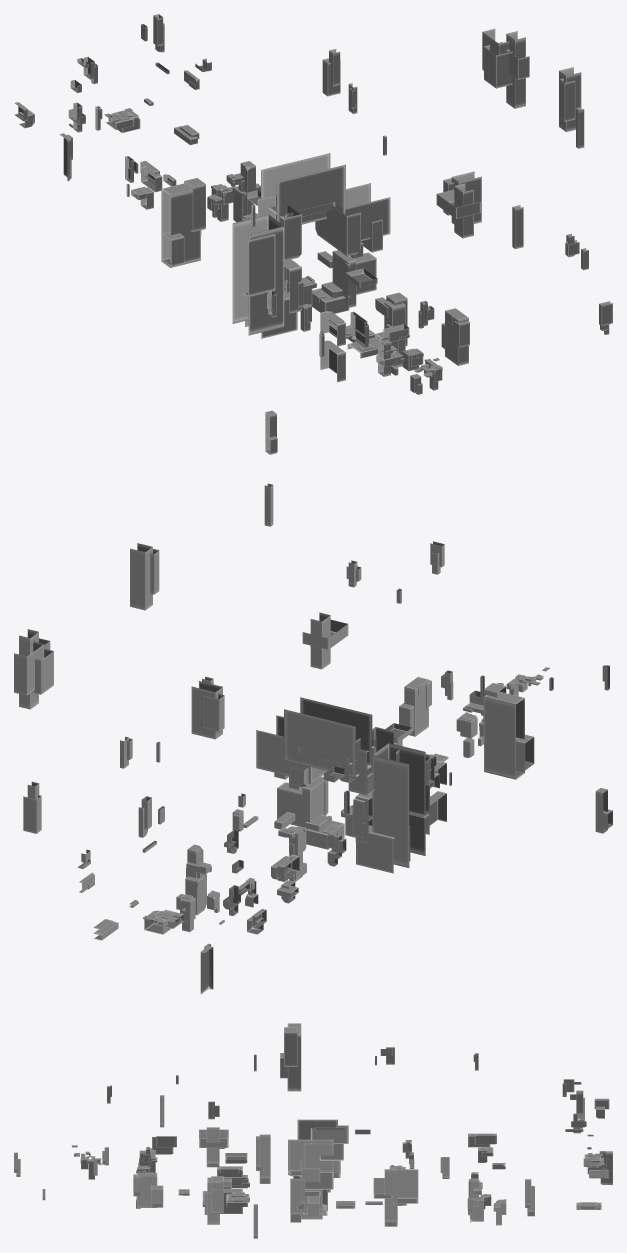
Rendered from AlphaBowLevelFinalUVFix.fbx.
The picture shows the model from 3 angles, top to bottom: view 1: azimuth 30°, elevation 25°; view 2: azimuth 150°, elevation 25°; view 3: azimuth 270°, elevation 25°; orthographic projection. The views are drawn at different scales.
Visible parts, largest first — view 1: AlphaBowLevel; view 2: AlphaBowLevel; view 3: AlphaBowLevel.
Part boxes in pixels (x1,y1,x2,y2): AlphaBowLevel: (14, 14, 612, 454); AlphaBowLevel: (14, 483, 612, 993); AlphaBowLevel: (14, 1023, 612, 1238).
Bounding box in the file's own units: 19199 × 30482 × 11389.
